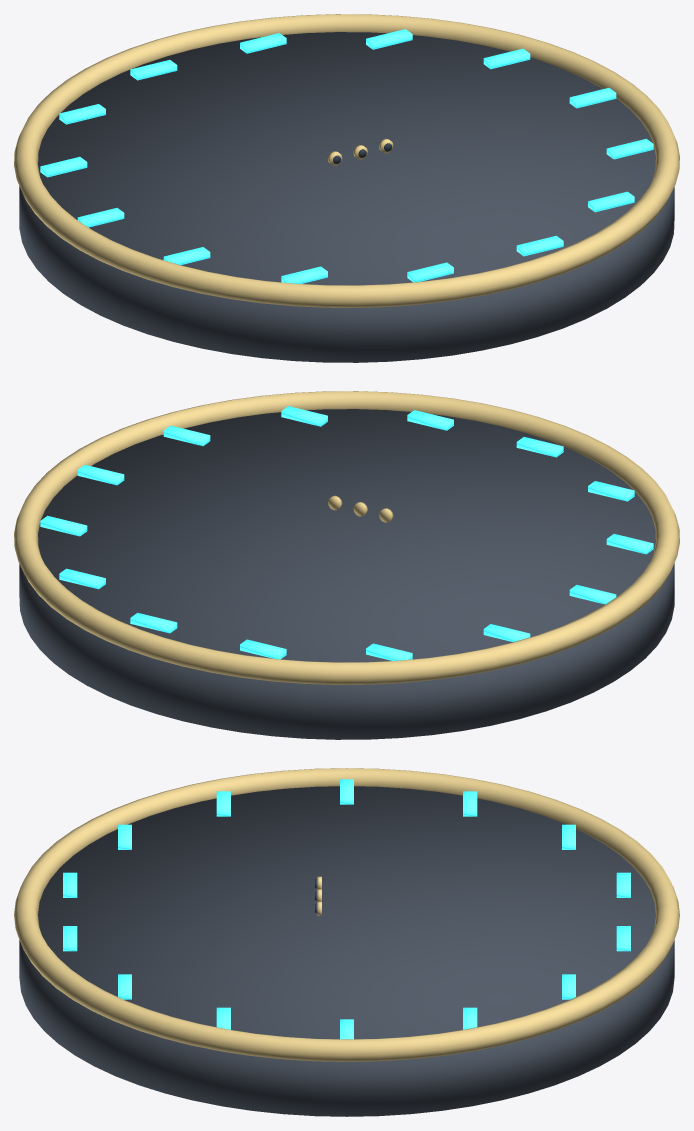
Rendered from 06_L93_CentralArchiveDais.glb.
3 views of the same model, one above another, from view 1: azimuth 30°, elevation 25°; view 2: azimuth 150°, elevation 25°; view 3: azimuth 270°, elevation 25° (orthographic).
Visible parts, largest first — view 1: L92_CentralArchiveDais_Part_0000, L92_CentralArchiveDais_Part_0001, L92_CentralArchiveDais_Part_0002; view 2: L92_CentralArchiveDais_Part_0000, L92_CentralArchiveDais_Part_0001, L92_CentralArchiveDais_Part_0002; view 3: L92_CentralArchiveDais_Part_0000, L92_CentralArchiveDais_Part_0001, L92_CentralArchiveDais_Part_0002.
Boxes of the visible parts, bbox=[...] form: L92_CentralArchiveDais_Part_0000: bbox=[19, 32, 674, 362]; L92_CentralArchiveDais_Part_0001: bbox=[14, 14, 679, 307]; L92_CentralArchiveDais_Part_0002: bbox=[40, 29, 653, 283]; L92_CentralArchiveDais_Part_0000: bbox=[19, 409, 674, 739]; L92_CentralArchiveDais_Part_0001: bbox=[14, 391, 679, 684]; L92_CentralArchiveDais_Part_0002: bbox=[40, 406, 653, 660]; L92_CentralArchiveDais_Part_0000: bbox=[19, 786, 674, 1116]; L92_CentralArchiveDais_Part_0001: bbox=[14, 768, 679, 1061]; L92_CentralArchiveDais_Part_0002: bbox=[63, 779, 630, 1039].
Bounding box in the file's own units: 6.1 × 0.895 × 6.1.
